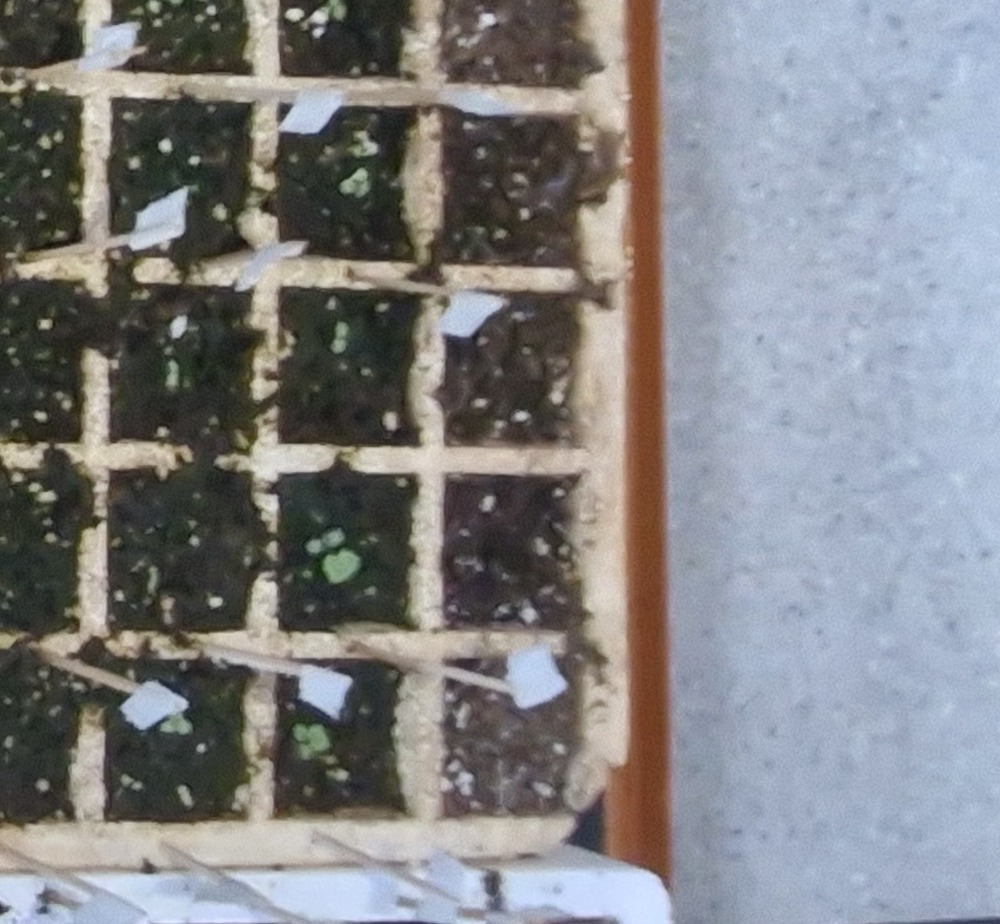Folha: (324, 551, 360, 584), (308, 725, 331, 752), (323, 528, 344, 546), (339, 178, 358, 192), (331, 339, 347, 354), (353, 167, 369, 182), (357, 179, 371, 196), (306, 538, 323, 552), (336, 322, 350, 338), (334, 4, 347, 21), (294, 724, 307, 741), (176, 721, 193, 734), (298, 744, 311, 760), (160, 721, 175, 734), (171, 711, 184, 724)
Germinacao: (307, 529, 361, 582), (294, 723, 328, 758), (339, 167, 371, 197), (163, 712, 192, 736), (331, 323, 348, 353), (329, 0, 347, 20)
